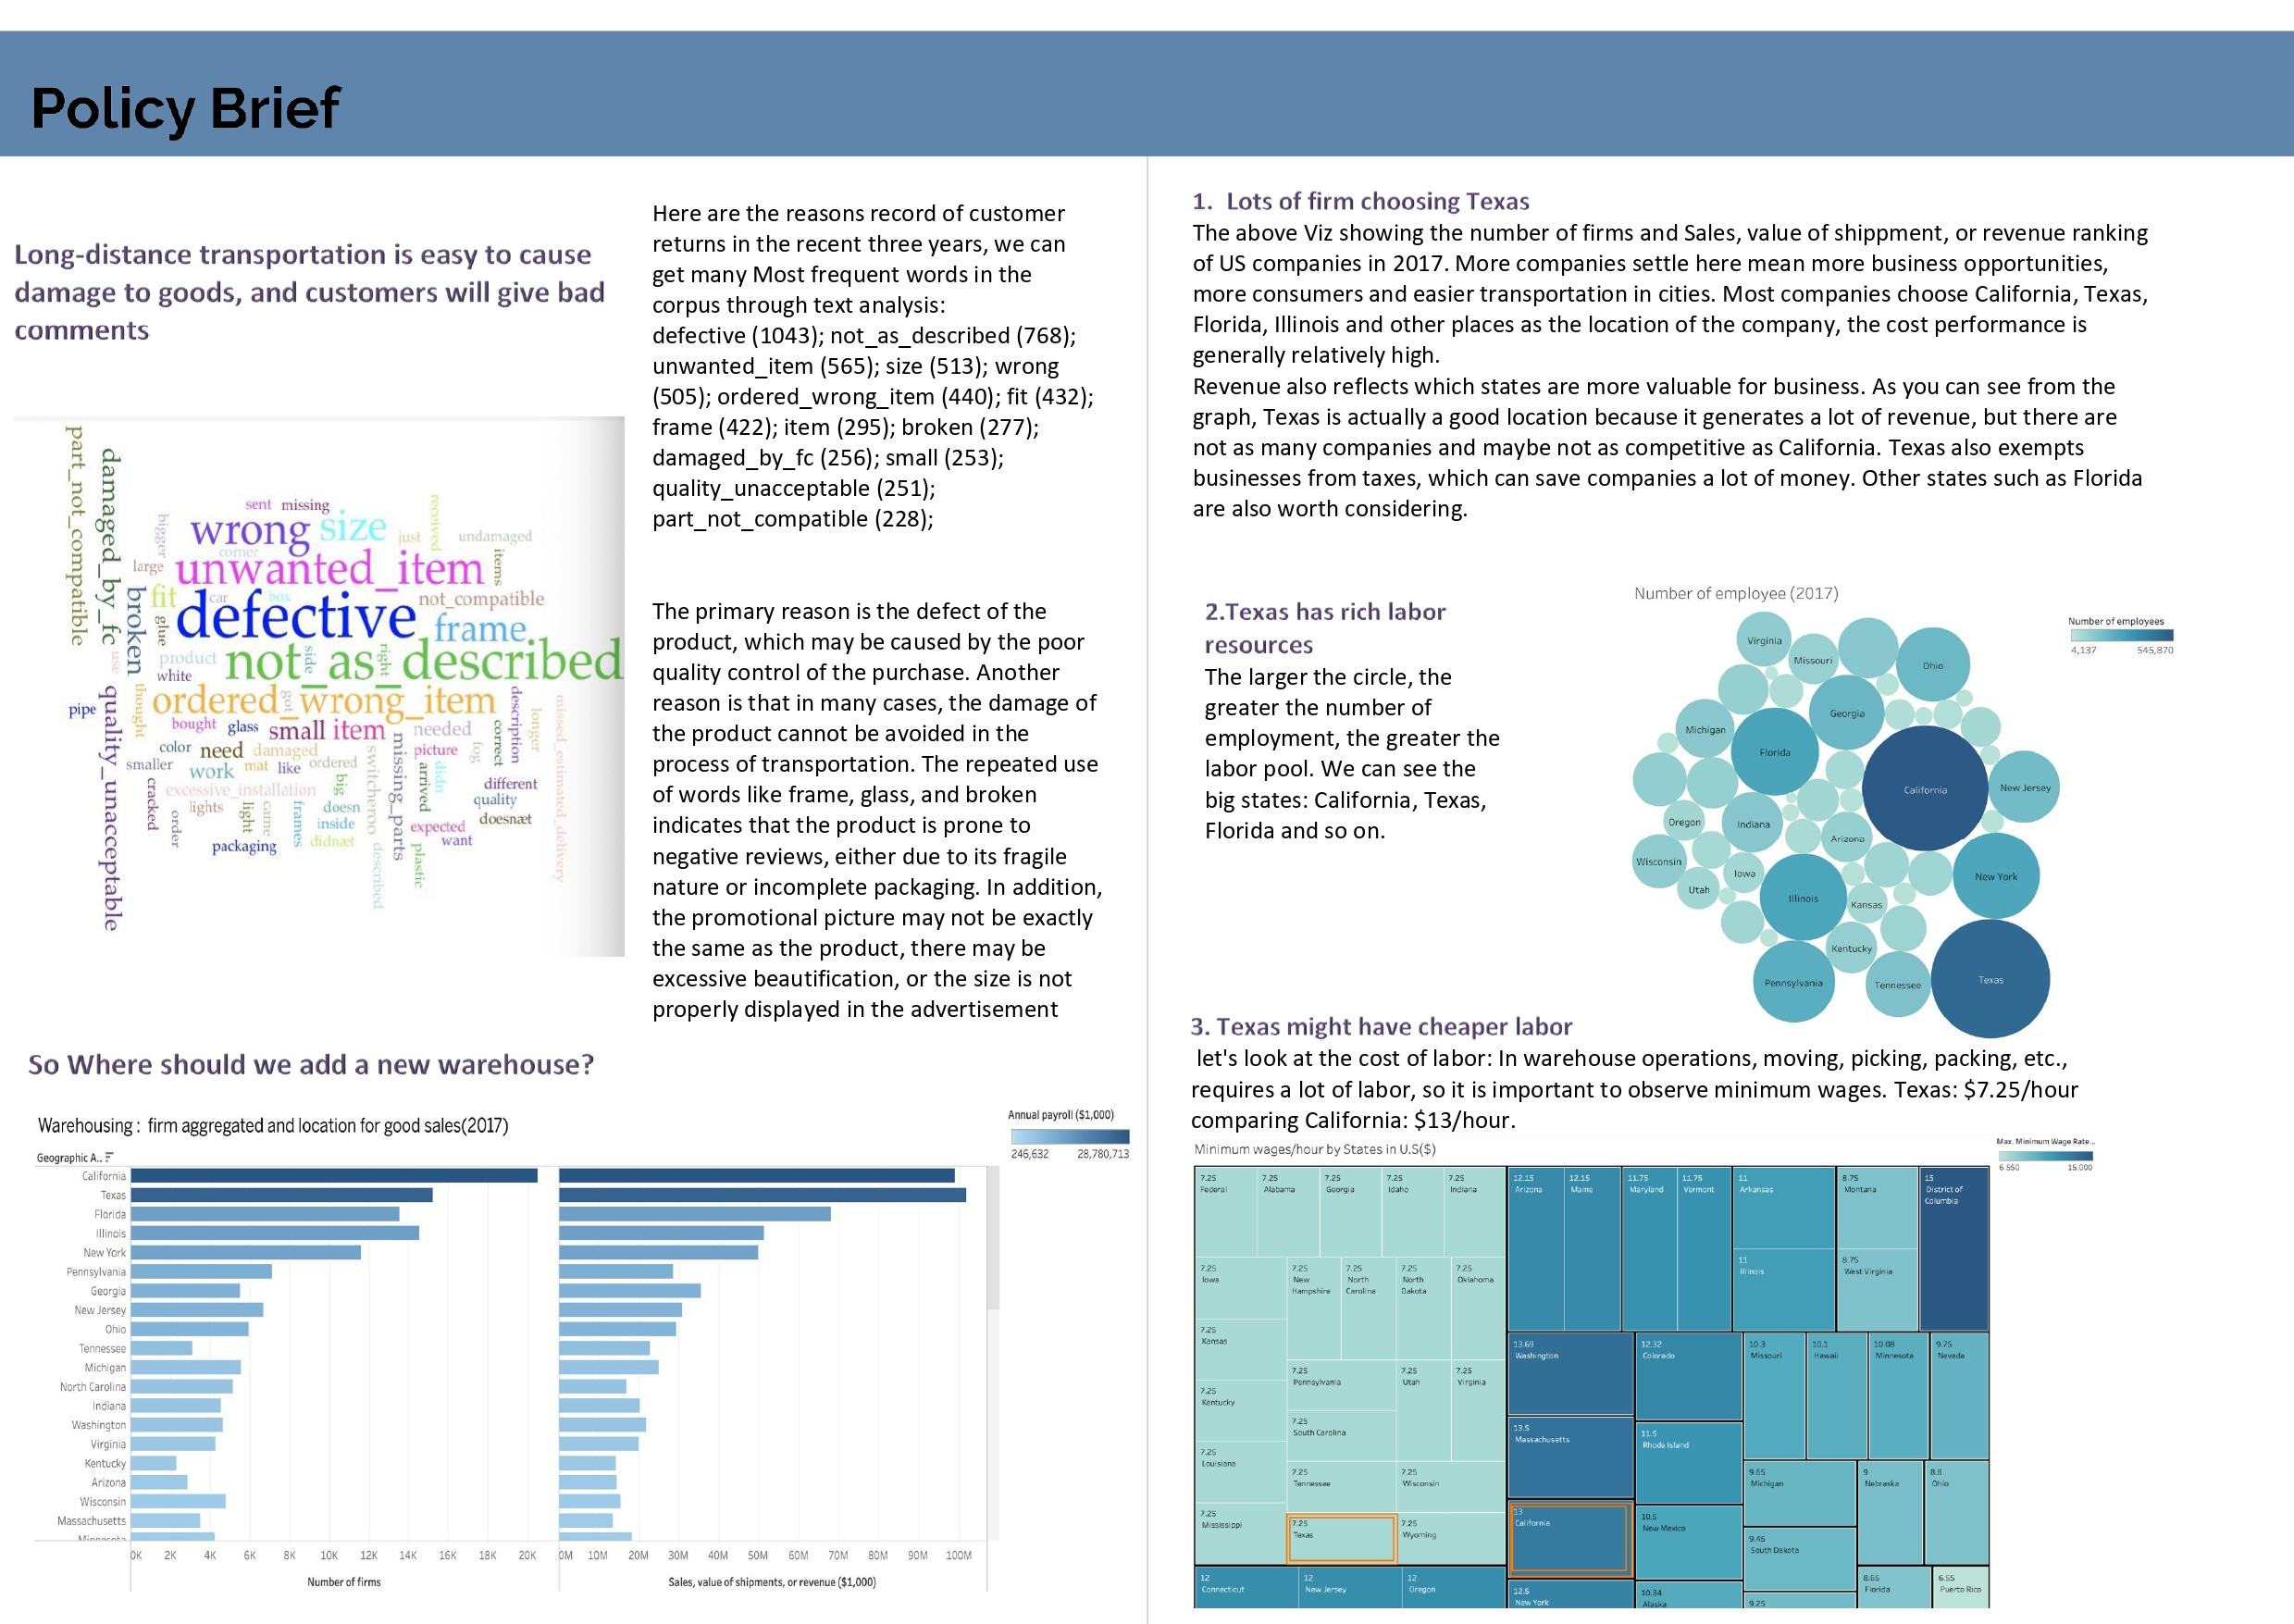

Layout of this report page (visuals, bound fields, positions):
{"tool":"tableau","page":{"name":"Dashboard 2","canvas":[1316,1164],"ordinal":0},"visuals":[{"type":"text","box":[8,8,1300,46.8]},{"type":"text","box":[8,54.8,498,26]},{"type":"worksheet","title":"orders' map","mark":"Circle","box":[506,54.8,802,309.2]},{"type":"image","param":"Image/1.jpg","box":[8,80.8,498,283.2]},{"type":"text","box":[8,364,1300,32]},{"type":"worksheet","title":"Warehousing: labor cost and location choosing ","mark":"Automatic","rows":["Geographic Area Name"],"cols":["Number of firms","Sales, value of shipments, or revenue ($1,000)"],"box":[8,396,1300,185.9]},{"type":"text","box":[8,582,392,26]},{"type":"text","box":[400,582,218,32]},{"type":"text","box":[618,582,690,32]},{"type":"worksheet","title":"number of employee","mark":"Circle","box":[8,608,392,548]},{"type":"worksheet","title":"shipping cost/order cost ratio","mark":"Square","rows":["Shipping State"],"box":[400,614,218,542]},{"type":"worksheet","title":"minimum","mark":"Automatic","box":[618,614,690,542]}]}

Visuals, with their boxes on the page's 1316x1164 design canvas (x1, y1, x2, y2). These are canvas units, not pixel positions in the 2294x1624 screenshot, which may show the page scaled, cropped or inside an application window:
text: x1=8 y1=8 x2=1308 y2=55
text: x1=8 y1=55 x2=506 y2=81
"orders' map" worksheet (Circle marks): x1=506 y1=55 x2=1308 y2=364
image: x1=8 y1=81 x2=506 y2=364
text: x1=8 y1=364 x2=1308 y2=396
"Warehousing: labor cost and location choosing " worksheet: x1=8 y1=396 x2=1308 y2=582
text: x1=8 y1=582 x2=400 y2=608
text: x1=400 y1=582 x2=618 y2=614
text: x1=618 y1=582 x2=1308 y2=614
"number of employee" worksheet (Circle marks): x1=8 y1=608 x2=400 y2=1156
"shipping cost/order cost ratio" worksheet (Square marks): x1=400 y1=614 x2=618 y2=1156
"minimum" worksheet: x1=618 y1=614 x2=1308 y2=1156
